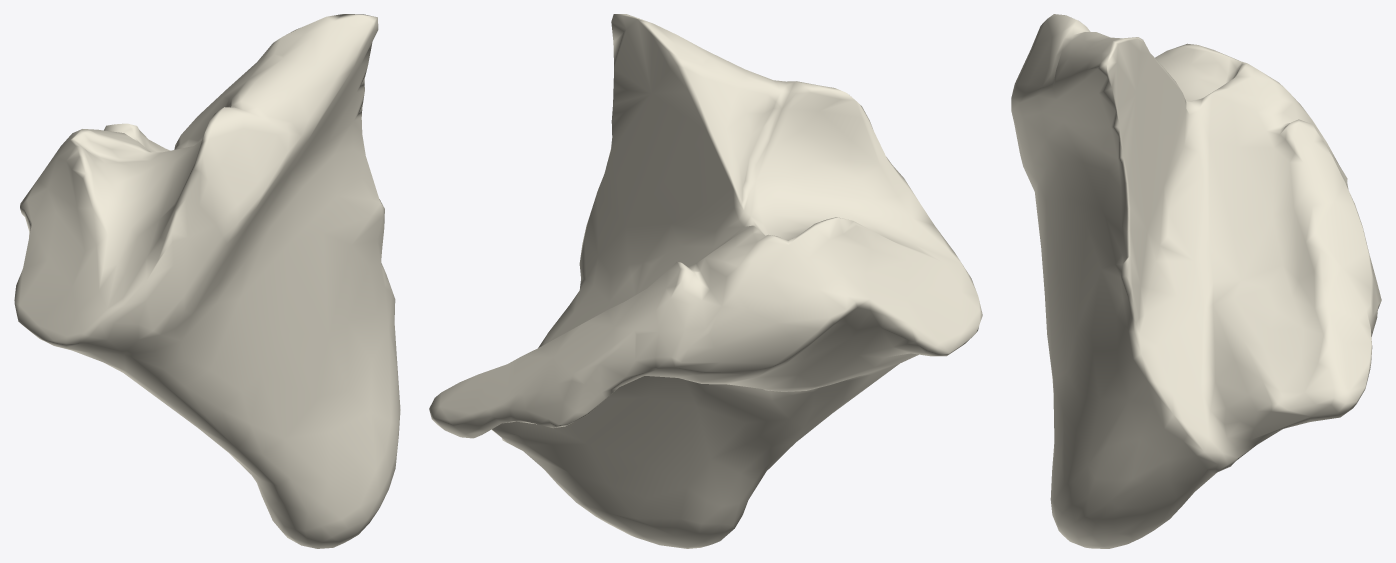
Rendered from fma314605_mm1059.glb.
3 views of the same model, side by side, from view 1: azimuth 30°, elevation 25°; view 2: azimuth 150°, elevation 25°; view 3: azimuth 270°, elevation 25° (orthographic). The views are drawn at different scales.
Parts seen in each view (by area): view 1: FMA314605_MM1059; view 2: FMA314605_MM1059; view 3: FMA314605_MM1059.
Part boxes in pixels (box(x1,y1,x2,y2)): FMA314605_MM1059: box(14, 14, 400, 548); FMA314605_MM1059: box(429, 14, 982, 548); FMA314605_MM1059: box(1011, 14, 1381, 548).
Bounding box in the file's own units: 0.0174 × 0.0211 × 0.0138.
